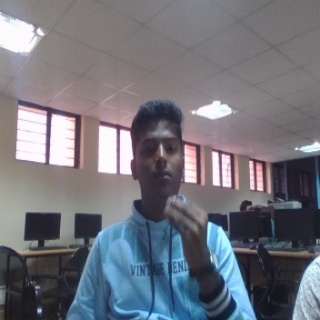Face: (126, 98, 185, 196)
Food: (165, 193, 212, 275)
